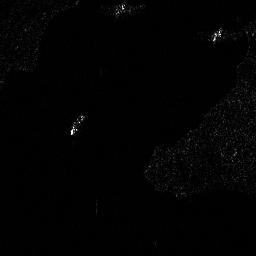ship: (68, 113, 85, 136)
